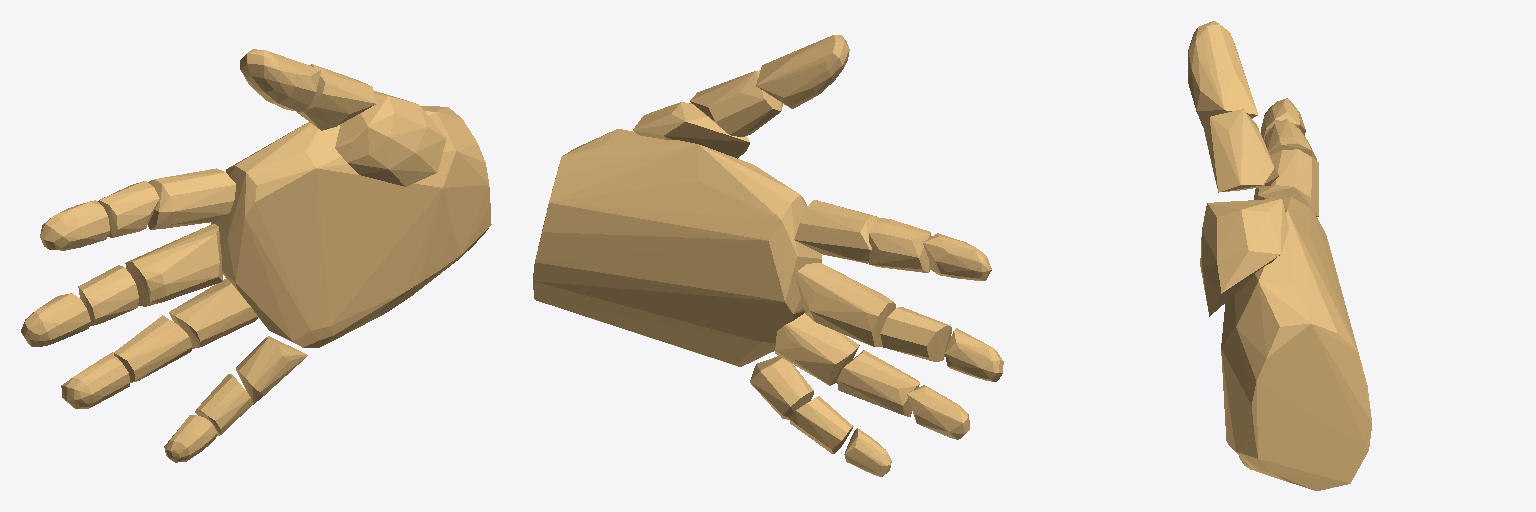
--- Facts derived from the render (not from the file) ---
Views: 3 orthographic renders of the robot side by side, from view 1: azimuth 30°, elevation 25°; view 2: azimuth 150°, elevation 25°; view 3: azimuth 270°, elevation 25°.
Robot: mano — 64 links, 63 joints (48 revolute, 3 prismatic, 12 fixed); root link world; default pose: all joints at 0.
Links seen in each view (by area): view 1: link_palm_rz, link_th_pm_z, link_mf_pm_z, link_ff_pm_z, link_th_dd_z, link_rf_pm_z, link_rf_md_z, link_th_md_z, link_ff_dd_z, link_mf_dd_z, link_lf_pm_z, link_mf_md_z (+4 smaller); view 2: link_palm_rz, link_mf_pm_z, link_th_dd_z, link_rf_pm_z, link_ff_pm_z, link_th_md_z, link_th_pm_z, link_rf_md_z, link_mf_md_z, link_ff_md_z, link_lf_pm_z, link_ff_dd_z (+4 smaller); view 3: link_palm_rz, link_th_pm_z, link_th_dd_z, link_th_md_z, link_ff_pm_z, link_ff_md_z, link_ff_dd_z.
Boxes of the visible links, x1=… form: link_palm_rz: x1=211, y1=106, x2=491, y2=347; link_th_pm_z: x1=335, y1=91, x2=446, y2=186; link_mf_pm_z: x1=125, y1=224, x2=222, y2=306; link_ff_pm_z: x1=148, y1=168, x2=235, y2=229; link_th_dd_z: x1=240, y1=49, x2=320, y2=111; link_rf_pm_z: x1=169, y1=279, x2=257, y2=348; link_rf_md_z: x1=114, y1=315, x2=191, y2=382; link_th_md_z: x1=297, y1=64, x2=376, y2=130; link_ff_dd_z: x1=40, y1=200, x2=109, y2=250; link_mf_dd_z: x1=21, y1=293, x2=90, y2=346; link_lf_pm_z: x1=236, y1=336, x2=307, y2=404; link_mf_md_z: x1=78, y1=265, x2=138, y2=325; link_palm_rz: x1=533, y1=129, x2=821, y2=366; link_mf_pm_z: x1=796, y1=263, x2=895, y2=346; link_th_dd_z: x1=756, y1=35, x2=849, y2=108; link_rf_pm_z: x1=775, y1=313, x2=859, y2=385; link_ff_pm_z: x1=794, y1=200, x2=879, y2=263; link_th_md_z: x1=690, y1=70, x2=782, y2=136; link_th_pm_z: x1=633, y1=102, x2=749, y2=158; link_rf_md_z: x1=837, y1=350, x2=919, y2=416; link_mf_md_z: x1=880, y1=307, x2=951, y2=361; link_ff_md_z: x1=869, y1=218, x2=931, y2=272; link_lf_pm_z: x1=750, y1=356, x2=813, y2=419; link_ff_dd_z: x1=923, y1=233, x2=991, y2=280; link_palm_rz: x1=1221, y1=197, x2=1371, y2=490; link_th_pm_z: x1=1200, y1=199, x2=1288, y2=316; link_th_dd_z: x1=1188, y1=21, x2=1257, y2=125; link_th_md_z: x1=1203, y1=109, x2=1278, y2=192; link_ff_pm_z: x1=1254, y1=149, x2=1318, y2=216; link_ff_md_z: x1=1264, y1=119, x2=1316, y2=160; link_ff_dd_z: x1=1261, y1=98, x2=1305, y2=139.
Size in the robot's own frame: 0.1951 by 0.0594 by 0.1689 metres.
16 mesh visuals loaded from 16 distinct referenced files (16 binary STL).

URDF robot description (mano):
<?xml version="0.0" ?>
<robot name="mano">


  <material name="hand_color">
    <color rgba="0.91796875 0.765 0.5234 1"/>
  </material>
  <link name="world">  </link>

  <joint name="world_to_base" type="fixed">
    <axis xyz="0 0 0"/>
    <origin xyz="0.0 0.0 0.0"/>
    <parent link="world"/>
    <child link="sliderBar"/>
  </joint>

  <link name="sliderBar">
    <inertial>
      <mass value="0"/>
      <inertia ixx="1.0" ixy="0.0" ixz="0.0" iyy="1.0" iyz="0.0" izz="1.0"/>
    </inertial>
  </link>

    <!--
      Palm
    -->
    <!-- Palm -->
    <link name="palm">
		<inertial>
			<origin rpy="1.58112 0.01503 1.64315" xyz="-0.03429 -0.00198 0.00005"/>
			<mass value="0.25042"/>
			<inertia ixx="0.00043" ixy="0" ixz="0" iyy="0.00029" iyz="0" izz="0.00020"/>
		</inertial>
    </link>

    <link name="link_palm_y">
        <inertial>
            <origin rpy="0.00000 -0.00000 0.00000" xyz="0.00000 0.00000 0.00000"/>
            <mass value="0.00000"/>
            <inertia ixx="0.00000" ixy="0" ixz="0" iyy="0.00000" iyz="0" izz="0.00000"/>
        </inertial>
    </link>
    <link name="link_palm_z">
        <inertial>
            <origin rpy="0.00000 -0.00000 0.00000" xyz="0.00000 0.00000 0.00000"/>
            <mass value="0.00000"/>
            <inertia ixx="0.00000" ixy="0" ixz="0" iyy="0.00000" iyz="0" izz="0.00000"/>
        </inertial>
    </link>
    <link name="link_palm_rx">
        <inertial>
            <origin rpy="0.00000 -0.00000 0.00000" xyz="0.00000 0.00000 0.00000"/>
            <mass value="0.00000"/>
            <inertia ixx="0.00000" ixy="0" ixz="0" iyy="0.00000" iyz="0" izz="0.00000"/>
        </inertial>
    </link>
    <link name="link_palm_ry">
        <inertial>
            <origin rpy="0.00000 -0.00000 0.00000" xyz="0.00000 0.00000 0.00000"/>
            <mass value="0.00000"/>
            <inertia ixx="0.00000" ixy="0" ixz="0" iyy="0.00000" iyz="0" izz="0.00000"/>
        </inertial>
    </link>
    <link name="link_palm_rz">
        <inertial>
            <origin rpy="0.00000 -0.00000 0.00000" xyz="0.00000 0.00000 0.00000"/>
            <mass value="0.00000"/>
            <inertia ixx="0.00000" ixy="0" ixz="0" iyy="0.00000" iyz="0" izz="0.00000"/>
        </inertial>
        <visual>
            <origin rpy="0 0 0.0" xyz="0 0 0"/>
            <geometry>
                <mesh filename="meshes/palm_mean.stl" scale="1 1 1"/>
            </geometry>
            <material name="hand_color"/>
        </visual>
        <collision>
            <origin rpy="0 0 0.2" xyz="-0.03 0 0"/>
            <geometry>
                <box size="0.08780 0.027 0.07"/>
            </geometry>
            <material name="">
              <contact name="finger"/>
            </material>
        </collision>
        <collision>
            <origin rpy="-2.61505 0.70030 -1.87000" xyz="-0.01187 -0.00708 0.01218"/>
            <geometry>
                <capsule length="0.03684" radius="0.015"/>
            </geometry>
            <material name="">
              <contact name="finger"/>
            </material>
        </collision>
    </link>
   <joint name="WRJ0x" type="prismatic">
        <parent link="sliderBar"/>
        <child link="palm"/>
        <origin xyz="0.0 0.0 0.0"/>
        <axis xyz="1 0 0"/>
        <limit effort="100.0" lower="-2" upper="2" />
        <dynamics damping="10.0" friction="0.0001"/>
    </joint>
    <joint name="WRJ0y" type="prismatic">
        <parent link="palm"/>
        <child link="link_palm_y"/>
        <origin xyz="0.0 0.0 0.0"/>
        <axis xyz="0 1 0"/>
        <limit effort="100.0" lower="-2" upper="2" />
        <dynamics damping="10.0" friction="0.0001"/>
    </joint>
    <joint name="WRJ0z" type="prismatic">
        <parent link="link_palm_y"/>
        <child link="link_palm_z"/>
        <origin xyz="0.0 0.0 0.0"/>
        <axis xyz="0 0 1"/>
        <limit effort="100.0" lower="-2" upper="2"/>
        <dynamics damping="10.0" friction="0.0001"/>
    </joint>
    <joint name="WRJ0rx" type="revolute">
        <parent link="link_palm_z"/>
        <child link="link_palm_rx"/>
        <origin xyz="0.0 0.0 0.0"/>
        <axis xyz="1 0 0"/>
        <limit effort="1000" lower="-3.14" upper="3.14" />

        <dynamics   damping="1.0" friction="0.0001"/>
    </joint>
    <joint name="WRJ0ry" type="revolute">
        <parent link="link_palm_rx"/>
        <child link="link_palm_ry"/>
        <origin xyz="0.0 0.0 0.0"/>
        <axis xyz="0 1 0"/>
        <limit effort="1000" lower="-3.14" upper="3.14"  />

        <dynamics   damping="1.0" friction="0.0001"/>
    </joint>
    <joint name="WRJ0rz" type="revolute">
        <parent link="link_palm_ry"/>
        <child link="link_palm_rz"/>
        <origin xyz="0.0 0.0 0.0"/>
        <axis xyz="0 0 1"/>
        <limit effort="1000" lower="-3.14" upper="3.14"  />
        <dynamics   damping="1.0" friction="0.0001"/>
    </joint>


     <!-- FF -->
    <link name="fffixed">
        <inertial>
            <origin rpy="0.00000 -0.00000 0.00000" xyz="0.00000 0.00000 0.00000"/>
            <mass value="0.0"/>
            <inertia ixx="0.00000" ixy="0" ixz="0" iyy="0.00000" iyz="0" izz="0.00000"/>
        </inertial>
    </link>
    <!-- Fix Finger joint -->
    <joint name="Palm_FFJ2" type="fixed">
        <parent link="link_palm_rz"/>
        <child link="fffixed"/>
        <origin xyz="0.0 0.0 0.0"/>
    </joint>


    <link name="ffproximal">
		<inertial>
			<origin rpy="-0.62614 -1.47063 -2.57808" xyz="0.06969 0.00857 -0.01920"/>
			<mass value="0.00845"/>
			<inertia ixx="0.00000" ixy="0" ixz="0" iyy="0.00000" iyz="0" izz="0.00000"/>
		</inertial>
    </link>
    <link name="link_ff_pm_y">
        <inertial>
            <origin rpy="0.00000 -0.00000 0.00000" xyz="0.00000 0.00000 0.00000"/>
            <mass value="0.00000"/>
            <inertia ixx="0.00000" ixy="0" ixz="0" iyy="0.00000" iyz="0" izz="0.00000"/>
        </inertial>
    </link>
    <link name="link_ff_pm_z">
        <inertial>
            <origin rpy="0.00000 -0.00000 0.00000" xyz="0.00000 0.00000 0.00000"/>
            <mass value="0.00000"/>
            <inertia ixx="0.00000" ixy="0" ixz="0" iyy="0.00000" iyz="0" izz="0.00000"/>
        </inertial>
        <collision>
          <origin rpy="2.0759187  1.43150624 1.94972864" xyz="-0.01633945  0.00200468  0.00110853"/>
          <geometry>
            <capsule length="0.0329984988704395" radius="0.009"/>
          </geometry>
          <material name="">
            <contact name="finger"/>
          </material>
       </collision>
       <visual>
           <origin rpy="0 0 0.0" xyz="0 0 0"/>
           <geometry>
               <mesh filename="meshes/ffprox_mean.stl" scale="1 1 1"/>
           </geometry>
           <material name="hand_color"/>
       </visual>
    </link>
    <!-- FF2 proximal joint -->
    <joint name="FFJ2" type="revolute">
        <parent link="fffixed"/>
        <child link="ffproximal"/>
        <origin xyz="-0.0880972 -0.00520036 0.020686"/>
        <axis xyz="1 0 0"/>
        <limit effort="1000" lower="-0.25000" upper="0.25000" />

        <dynamics   damping="1.0" friction="0.0001"/>
    </joint>
    <joint name="FFJ2_y" type="revolute">
        <parent link="ffproximal"/>
        <child link="link_ff_pm_y"/>
        <origin xyz="0 0 0"/>
        <axis xyz="0 1 0"/>
        <limit effort="1000" lower="-0.8" upper="0.8" />

        <dynamics   damping="1.0" friction="0.0001"/>
    </joint>
    <joint name="FFJ2_z" type="revolute">
        <parent link="link_ff_pm_y"/>
        <child link="link_ff_pm_z"/>
        <origin xyz="0 0 0"/>
        <axis xyz="0 0 1"/>
        <limit effort="1000" lower="-0.0" upper="1.57" />

        <dynamics   damping="1.0" friction="0.0001"/>
    </joint>

  <link name="ffmiddle_fixed">
        <inertial>
            <origin rpy="0.00000 -0.00000 0.00000" xyz="0.00000 0.00000 0.00000"/>
            <mass value="0.0"/>
            <inertia ixx="0.00000" ixy="0" ixz="0" iyy="0.00000" iyz="0" izz="0.00000"/>
        </inertial>
    </link>
    <link name="ffmiddle">
		<inertial>
			<origin rpy="1.37262 -0.25251 1.73296" xyz="0.10956 0.00102 -0.02288"/>
			<mass value="0.00413"/>
			<inertia ixx="0.00000" ixy="0" ixz="0" iyy="0.00000" iyz="0" izz="0.00000"/>
		</inertial>
    </link>
    <link name="link_ff_md_y">
        <inertial>
            <origin rpy="0.00000 -0.00000 0.00000" xyz="0.00000 0.00000 0.00000"/>
            <mass value="0.00000"/>
            <inertia ixx="0.00000" ixy="0" ixz="0" iyy="0.00000" iyz="0" izz="0.00000"/>
        </inertial>
    </link>
    <link name="link_ff_md_z">
        <inertial>
            <origin rpy="0.00000 -0.00000 0.00000" xyz="0.00000 0.00000 0.00000"/>
            <mass value="0.00000"/>
            <inertia ixx="0.00000" ixy="0" ixz="0" iyy="0.00000" iyz="0" izz="0.00000"/>
        </inertial>
        <collision>
          <origin rpy="-1.48313839 1.51203433 -1.42475203" xyz="-1.10779554e-02 -6.49210764e-04 -5.70546836e-05"/>
          <geometry>
            <capsule length="0.02219421770877059" radius="0.0075"/>
          </geometry>
          <material name="">
            <contact name="finger"/>
          </material>
       </collision>
       <visual>
           <origin rpy="0 0 0.0" xyz="0 0 0"/>
           <geometry>
               <mesh filename="meshes/ffmiddle_mean.stl" scale="1 1 1"/>
           </geometry>
           <material name="hand_color"/>
       </visual>
    </link>
    <!-- FF1 joint -->
    <joint name="FFJ1_f" type="fixed">
        <parent link="link_ff_pm_z"/>
        <child link="ffmiddle_fixed"/>
        <origin xyz="-0.0326789 0.00400935 0.00221706"/>
        <axis xyz="1 0 0"/>
    </joint>
    <joint name="FFJ1" type="revolute">
        <parent link="ffmiddle_fixed"/>
        <child link="ffmiddle"/>
        <origin xyz="0.0 0.0 0.0"/>
        <axis xyz="1 0 0"/>
        <limit effort="1000" lower="-0.25000" upper="0.25000" />

        <dynamics   damping="1.0" friction="0.0001"/>
    </joint>
    <joint name="FFJ1_y" type="revolute">
        <parent link="ffmiddle"/>
        <child link="link_ff_md_y"/>
        <origin xyz="0.0 0.0 0.0"/>
        <axis xyz="0 1 0"/>
        <limit effort="1000" lower="-0.25000" upper="0.25000" />

        <dynamics   damping="1.0" friction="0.0001"/>
    </joint>
    <joint name="FFJ1_z" type="revolute">
        <parent link="link_ff_md_y"/>
        <child link="link_ff_md_z"/>
        <origin xyz="0.0 0.0 0.0"/>
        <axis xyz="0 0 1"/>
        <limit effort="1000" lower="-0.5000" upper="1.57" />

        <dynamics   damping="1.0" friction="0.0001"/>
    </joint>

    <link name="ffdistal">
		<inertial>
			<origin rpy="1.46564 0.28965 1.52696" xyz="0.13180 0.00199 -0.02293"/>
			<mass value="0.00293"/>
			<inertia ixx="0.00000" ixy="0" ixz="0" iyy="0.00000" iyz="0" izz="0.00000"/>
		</inertial>
    </link>
    <link name="link_ff_dd_y">
        <inertial>
            <origin rpy="0.00000 -0.00000 0.00000" xyz="0.00000 0.00000 0.00000"/>
            <mass value="0.00000"/>
            <inertia ixx="0.00000" ixy="0" ixz="0" iyy="0.00000" iyz="0" izz="0.00000"/>
        </inertial>
    </link>
    <link name="link_ff_dd_z">
        <inertial>
            <origin rpy="0.00000 -0.00000 0.00000" xyz="0.00000 0.00000 0.00000"/>
            <mass value="0.00000"/>
            <inertia ixx="0.00000" ixy="0" ixz="0" iyy="0.00000" iyz="0" izz="0.00000"/>
        </inertial>
        <collision>
          <origin rpy="2.96610898 1.39582282 2.93259132 " xyz="-0.01163138  0.00035898  0.00202463"/>
          <geometry>
            <capsule length="0.015" radius="0.0075"/>
          </geometry>
          <material name="">
            <contact name="finger"/>
          </material>
       </collision>
       <visual>
           <origin rpy="0 0 0.0" xyz="0 0 0"/>
           <geometry>
               <mesh filename="meshes/ffdist_mean.stl" scale="1 1 1"/>
           </geometry>
           <material name="hand_color"/>
       </visual>
    </link>
    <!-- FF1 joint -->
    <joint name="FFJ0" type="revolute">
        <parent link="link_ff_md_z"/>
        <child link="ffdistal"/>
        <origin xyz="-0.0221559 -0.00129842 -0.000114109"/>
        <axis xyz="1 0 0"/>
        <limit effort="1000" lower="-0.25000" upper="0.25000" />

        <dynamics   damping="1.0" friction="0.0001"/>
    </joint>
    <joint name="FFJ0_y" type="revolute">
        <parent link="ffdistal"/>
        <child link="link_ff_dd_y"/>
        <origin xyz="0.0 0.0 0.0"/>
        <axis xyz="0 1 0"/>
        <limit effort="1000" lower="-0.25000" upper="0.25000" />

        <dynamics   damping="1.0" friction="0.0001"/>
    </joint>
    <joint name="FFJ0_z" type="revolute">
        <parent link="link_ff_dd_y"/>
        <child link="link_ff_dd_z"/>
        <origin xyz="0.0 0.0 0.0"/>
        <axis xyz="0 0 1"/>
        <limit effort="1000" lower="-0.000" upper="1.57" />

        <dynamics   damping="1.0" friction="0.0001"/>
    </joint>

    <link name="link_fftip">
                <inertial>
                    <origin rpy="0.00000 -0.00000 0.00000" xyz="0.00000 0.00000 0.00000"/>
                    <mass value="0.00000"/>
                    <inertia ixx="0.00000" ixy="0" ixz="0" iyy="0.00000" iyz="0" izz="0.00000"/>
                </inertial>
    </link>
        <!-- Fix Finger joint -->
    <joint name="FFTip" type="fixed">
            <parent link="link_ff_dd_z"/>
            <child link="link_fftip"/>
            <origin xyz="-0.02326277  0.00071796  0.00404926"/>
    </joint>

    <!-- MF -->
    <link name="mffixed">
        <inertial>
            <origin rpy="0.00000 -0.00000 0.00000" xyz="0.00000 0.00000 0.00000"/>
            <mass value="0.0"/>
            <inertia ixx="0.00000" ixy="0" ixz="0" iyy="0.00000" iyz="0" izz="0.00000"/>
        </inertial>
    </link>
    <!-- Fix Finger joint -->
    <joint name="Palm_MFJ2" type="fixed">
        <parent link="link_palm_rz"/>
        <child link="mffixed"/>
        <origin xyz="0.0 0.0 0.0"/>
    </joint>


    <link name="mfproximal">
		<inertial>
			<origin rpy="1.32892 0.20760 1.52264" xyz="0.08062 0.00385 0.00038"/>
			<mass value="0.00996"/>
			<inertia ixx="0.00000" ixy="0" ixz="0" iyy="0.00000" iyz="0" izz="0.00000"/>
		</inertial>
    </link>
    <link name="link_mf_pm_y">
        <inertial>
            <origin rpy="0.00000 -0.00000 0.00000" xyz="0.00000 0.00000 0.00000"/>
            <mass value="0.00000"/>
            <inertia ixx="0.00000" ixy="0" ixz="0" iyy="0.00000" iyz="0" izz="0.00000"/>
        </inertial>
    </link>
    <link name="link_mf_pm_z">
        <inertial>
            <origin rpy="0.00000 -0.00000 0.00000" xyz="0.00000 0.00000 0.00000"/>
            <mass value="0.00000"/>
            <inertia ixx="0.00000" ixy="0" ixz="0" iyy="0.00000" iyz="0" izz="0.00000"/>
        </inertial>
        <collision>
          <origin rpy="0.32118629 1.38392244 0.26686409" xyz="-0.01559134  0.00093066 -0.00279725"/>
          <geometry>
            <capsule length="0.031735191602453826" radius="0.009"/>
          </geometry>
          <material name="">
            <contact name="finger"/>
          </material>
       </collision>
       <visual>
           <origin rpy="0 0 0.0" xyz="0 0 0"/>
           <geometry>
               <mesh filename="meshes/mfprox_mean.stl" scale="1 1 1"/>
           </geometry>
           <material name="hand_color"/>
       </visual>

    </link>
    <!-- MF2 proximal joint -->
    <joint name="MFJ2" type="revolute">
        <parent link="mffixed"/>
        <child link="mfproximal"/>
        <origin xyz="-0.0946604 -0.00147896 -0.00335754"/>
        <axis xyz="1 0 0"/>
        <limit effort="1000" lower="-0.25000" upper="0.25000" />

        <dynamics   damping="1.0" friction="0.0001"/>
    </joint>
    <joint name="MFJ2_y" type="revolute">
        <parent link="mfproximal"/>
        <child link="link_mf_pm_y"/>
        <origin xyz="0.0 0.0 0.0"/>
        <axis xyz="0 1 0"/>
        <limit effort="1000" lower="-0.8" upper="0.8" />

        <dynamics   damping="1.0" friction="0.0001"/>
    </joint>
    <joint name="MFJ2_z" type="revolute">
        <parent link="link_mf_pm_y"/>
        <child link="link_mf_pm_z"/>
        <origin xyz="0.0 0.0 0.0"/>
        <axis xyz="0 0 1"/>
        <limit effort="1000" lower="-0.0" upper="1.57" />

        <dynamics   damping="1.0" friction="0.0001"/>
    </joint>

    <link name="mfmiddle">
		<inertial>
			<origin rpy="1.36785 0.19063 1.79335" xyz="0.11276 -0.00059 0.00674"/>
			<mass value="0.00400"/>
			<inertia ixx="0.00000" ixy="0" ixz="0" iyy="0.00000" iyz="0" izz="0.00000"/>
		</inertial>
    </link>
    <link name="link_mf_md_y">
        <inertial>
            <origin rpy="0.00000 -0.00000 0.00000" xyz="0.00000 0.00000 0.00000"/>
            <mass value="0.00000"/>
            <inertia ixx="0.00000" ixy="0" ixz="0" iyy="0.00000" iyz="0" izz="0.00000"/>
        </inertial>
    </link>
    <link name="link_mf_md_z">
        <inertial>
            <origin rpy="0.00000 -0.00000 0.00000" xyz="0.00000 0.00000 0.00000"/>
            <mass value="0.00000"/>
            <inertia ixx="0.00000" ixy="0" ixz="0" iyy="0.00000" iyz="0" izz="0.00000"/>
        </inertial>
    <collision>
      <origin rpy="-0.30736925 1.39204219 -0.25742004" xyz="-0.01145232 -0.00062605 -0.00197226"/>
      <geometry>
        <capsule length="0.023275522107771795" radius="0.0075"/>
      </geometry>
      <material name="">
        <contact name="finger"/>
      </material>
   </collision>
   <visual>
       <origin rpy="0 0 0.0" xyz="0 0 0"/>
       <geometry>
           <mesh filename="meshes/mfmiddle_mean.stl" scale="1 1 1"/>
       </geometry>
       <material name="hand_color"/>
   </visual>
    </link>
    <!-- MF1 joint -->
    <joint name="MFJ1" type="revolute">
        <parent link="link_mf_pm_z"/>
        <child link="mfmiddle"/>
        <origin xyz="-0.0311827 0.00186133 -0.00559451"/>
        <axis xyz="1 0 0"/>
        <limit effort="1000" lower="-0.25000" upper="0.25000" />

        <dynamics   damping="1.0" friction="0.0001"/>
    </joint>
    <joint name="MFJ1_y" type="revolute">
        <parent link="mfmiddle"/>
        <child link="link_mf_md_y"/>
        <origin xyz="0.0 0.0 0.0"/>
        <axis xyz="0 1 0"/>
        <limit effort="1000" lower="-0.25000" upper="0.25000" />

        <dynamics   damping="1.0" friction="0.0001"/>
    </joint>
    <joint name="MFJ1_z" type="revolute">
        <parent link="link_mf_md_y"/>
        <child link="link_mf_md_z"/>
        <origin xyz="0.0 0.0 0.0"/>
        <axis xyz="0 0 1"/>
        <limit effort="1000" lower="-0.000" upper="1.57" />

        <dynamics   damping="1.0" friction="0.0001"/>
    </joint>

    <link name="mfdistal">
		<inertial>
			<origin rpy="1.31977 0.24217 1.38225" xyz="0.13534 0.00074 0.01081"/>
			<mass value="0.00289"/>
			<inertia ixx="0.00000" ixy="0" ixz="0" iyy="0.00000" iyz="0" izz="0.00000"/>
		</inertial>
    </link>
    <link name="link_mf_dd_y">
        <inertial>
            <origin rpy="0.00000 -0.00000 0.00000" xyz="0.00000 0.00000 0.00000"/>
            <mass value="0.00000"/>
            <inertia ixx="0.00000" ixy="0" ixz="0" iyy="0.00000" iyz="0" izz="0.00000"/>
        </inertial>
    </link>
    <link name="link_mf_dd_z">
        <inertial>
            <origin rpy="0.00000 -0.00000 0.00000" xyz="0.00000 0.00000 0.00000"/>
            <mass value="0.00000"/>
            <inertia ixx="0.00000" ixy="0" ixz="0" iyy="0.00000" iyz="0" izz="0.00000"/>
        </inertial>
        <collision>
          <origin rpy="-0.21855015 1.36348088  -0.17760409" xyz="-0.01551503 -0.00070755 -0.00318577"/>
          <geometry>
            <capsule length="0.01" radius="0.0075"/>
          </geometry>
          <material name="">
            <contact name="finger"/>
          </material>
       </collision>
       <visual>
           <origin rpy="0 0 0.0" xyz="0 0 0"/>
           <geometry>
               <mesh filename="meshes/mfdist_mean.stl" scale="1 1 1"/>
           </geometry>
           <material name="hand_color"/>
       </visual>
    </link>
    <!-- MF0 joint -->
    <joint name="MFJ0" type="revolute">
        <parent link="link_mf_md_z"/>
        <child link="mfdistal"/>
        <origin xyz="-0.0229046 -0.0012521 -0.00394452"/>
        <axis xyz="1 0 0"/>
        <limit effort="1000" lower="-0.25000" upper="0.25000" />

        <dynamics   damping="1.0" friction="0.0001"/>
    </joint>
    <joint name="MFJ0_y" type="revolute">
        <parent link="mfdistal"/>
        <child link="link_mf_dd_y"/>
        <origin xyz="0.0 0.0 0.0"/>
        <axis xyz="0 1 0"/>
        <limit effort="1000" lower="-0.25000" upper="0.25000" />

        <dynamics   damping="1.0" friction="0.0001"/>
    </joint>
    <joint name="MFJ0_z" type="revolute">
        <parent link="link_mf_dd_y"/>
        <child link="link_mf_dd_z"/>
        <origin xyz="0.0 0.0 0.0"/>
        <axis xyz="0 0 1"/>
        <limit effort="1000" lower="-0.000" upper="1.57" />

        <dynamics   damping="1.0" friction="0.0001"/>
    </joint>

    <link name="link_mftip">
            <inertial>
                <origin rpy="0.00000 -0.00000 0.00000" xyz="0.00000 0.00000 0.00000"/>
                <mass value="0.00000"/>
                <inertia ixx="0.00000" ixy="0" ixz="0" iyy="0.00000" iyz="0" izz="0.00000"/>
            </inertial>
    </link>
        <!-- Fix Finger joint -->
    <joint name="MFTip" type="fixed">
            <parent link="link_mf_dd_z"/>
            <child link="link_mftip"/>
            <origin xyz="-0.03103006 -0.0014151  -0.00637153"/>

    </joint>

    <!-- RF -->
    <link name="rffixed">
        <inertial>
            <origin rpy="0.00000 -0.00000 0.00000" xyz="0.00000 0.00000 0.00000"/>
            <mass value="0.0"/>
            <inertia ixx="0.00000" ixy="0" ixz="0" iyy="0.00000" iyz="0" izz="0.00000"/>
        </inertial>
    </link>

    <!-- Fix Finger joint -->
    <joint name="Palm_RFJ2" type="fixed">
        <parent link="link_palm_rz"/>
        <child link="rffixed"/>
        <origin xyz="0.0 0.0 0.0"/>
    </joint>


    <link name="rfproximal">
		<inertial>
			<origin rpy="-1.12499 -1.03767 -1.92594" xyz="0.06944 0.00644 0.02597"/>
			<mass value="0.00725"/>
			<inertia ixx="0.00000" ixy="0" ixz="0" iyy="0.00000" iyz="0" izz="0.00000"/>
		</inertial>
    </link>
    <link name="link_rf_pm_y">
        <inertial>
            <origin rpy="0.00000 -0.00000 0.00000" xyz="0.00000 0.00000 0.00000"/>
            <mass value="0.00000"/>
            <inertia ixx="0.00000" ixy="0" ixz="0" iyy="0.00000" iyz="0" izz="0.00000"/>
        </inertial>
    </link>
    <link name="link_rf_pm_z">
        <inertial>
            <origin rpy="0.00000 -0.00000 0.00000" xyz="0.00000 0.00000 0.00000"/>
            <mass value="0.00000"/>
            <inertia ixx="0.00000" ixy="0" ixz="0" iyy="0.00000" iyz="0" izz="0.00000"/>
        </inertial>
        <collision>
          <origin rpy=" 0.38516311 1.37888284 0.31878467" xyz="-0.01415714  0.0010335  -0.00254927"/>
          <geometry>
            <capsule length="0.028843811919740826" radius="0.009"/>
          </geometry>
          <material name="">
            <contact name="finger"/>
          </material>
       </collision>
       <visual>
           <origin rpy="0 0 0.0" xyz="0 0 0"/>
           <geometry>
               <mesh filename="meshes/rfprox_mean.stl" scale="1 1 1"/>
           </geometry>
           <material name="hand_color"/>
       </visual>
    </link>
    <!-- RF2 proximal joint -->
    <joint name="RFJ2" type="revolute">
        <parent link="rffixed"/>
        <child link="rfproximal"/>
        <origin xyz="-0.0817355 -0.00395742 -0.0266732"/>
        <axis xyz="1 0 0"/>
        <limit effort="1000" lower="-0.25000" upper="0.25000" />

        <dynamics   damping="1.0" friction="0.0001"/>
    </joint>
    <joint name="RFJ2_y" type="revolute">
        <parent link="rfproximal"/>
        <child link="link_rf_pm_y"/>
        <origin xyz="0.0 0.0 0.0"/>
        <axis xyz="0 1 0"/>
        <limit effort="1000" lower="-0.8" upper="0.8" />

        <dynamics   damping="1.0" friction="0.0001"/>
    </joint>
    <joint name="RFJ2_z" type="revolute">
        <parent link="link_rf_pm_y"/>
        <child link="link_rf_pm_z"/>
        <origin xyz="0.0 0.0 0.0"/>
        <axis xyz="0 0 1"/>
        <limit effort="1000" lower="-0.0" upper="1.57" />

        <dynamics   damping="1.0" friction="0.0001"/>
    </joint>

    <link name="rfmiddle">
		<inertial>
			<origin rpy="1.27220 0.24142 1.59300" xyz="0.09885 0.00150 0.02757"/>
			<mass value="0.00487"/>
			<inertia ixx="0.00000" ixy="0" ixz="0" iyy="0.00000" iyz="0" izz="0.00000"/>
		</inertial>
    </link>
    <link name="link_rf_md_y">
        <inertial>
            <origin rpy="0.00000 -0.00000 0.00000" xyz="0.00000 0.00000 0.00000"/>
            <mass value="0.00000"/>
            <inertia ixx="0.00000" ixy="0" ixz="0" iyy="0.00000" iyz="0" izz="0.00000"/>
        </inertial>
    </link>
    <link name="link_rf_md_z">
        <inertial>
            <origin rpy="0.00000 -0.00000 0.00000" xyz="0.00000 0.00000 0.00000"/>
            <mass value="0.00000"/>
            <inertia ixx="0.00000" ixy="0" ixz="0" iyy="0.00000" iyz="0" izz="0.00000"/>
        </inertial>
        <collision>
          <origin rpy="-0.21763357 1.24988512 -0.15729772" xyz="-0.01176025 -0.00084406 -0.00381691"/>
          <geometry>
            <capsule length="0.024785865310763495" radius="0.0075"/>
          </geometry>
          <material name="">
            <contact name="finger"/>
          </material>
       </collision>
       <visual>
           <origin rpy="0 0 0.0" xyz="0 0 0"/>
           <geometry>
               <mesh filename="meshes/rfmiddle_mean.stl" scale="1 1 1"/>
           </geometry>
           <material name="hand_color"/>
       </visual>
    </link>
    <!-- RF1 joint -->
    <joint name="RFJ1" type="revolute">
        <parent link="link_rf_pm_z"/>
        <child link="rfmiddle"/>
        <origin xyz="-0.0283143 0.00206701 -0.00509854"/>
        <axis xyz="1 0 0"/>
        <limit effort="1000" lower="-0.25000" upper="0.25000" />

        <dynamics   damping="1.0" friction="0.0001"/>
    </joint>
    <joint name="RFJ1_y" type="revolute">
        <parent link="rfmiddle"/>
        <child link="link_rf_md_y"/>
        <origin xyz="0.0 0.0 0.0"/>
        <axis xyz="0 1 0"/>
        <limit effort="1000" lower="-0.25000" upper="0.25000" />

        <dynamics   damping="1.0" friction="0.0001"/>
    </joint>
    <joint name="RFJ1_z" type="revolute">
        <parent link="link_rf_md_y"/>
        <child link="link_rf_md_z"/>
        <origin xyz="0.0 0.0 0.0"/>
        <axis xyz="0 0 1"/>
        <limit effort="1000" lower="-0.000" upper="1.57" />

        <dynamics   damping="1.0" friction="0.0001"/>
    </joint>

    <link name="rfdistal">
		<inertial>
			<origin rpy="1.25957 0.23826 1.45394" xyz="0.12158 0.00349 0.03689"/>
			<mass value="0.00272"/>
			<inertia ixx="0.00000" ixy="0" ixz="0" iyy="0.00000" iyz="0" izz="0.00000"/>
		</inertial>
    </link>
    <link name="link_rf_dd_y">
        <inertial>
            <origin rpy="0.00000 -0.00000 0.00000" xyz="0.00000 0.00000 0.00000"/>
            <mass value="0.00000"/>
            <inertia ixx="0.00000" ixy="0" ixz="0" iyy="0.00000" iyz="0" izz="0.00000"/>
        </inertial>
    </link>
    <link name="link_rf_dd_z">
        <inertial>
            <origin rpy="0.00000 -0.00000 0.00000" xyz="0.00000 0.00000 0.00000"/>
            <mass value="0.00000"/>
            <inertia ixx="0.00000" ixy="0" ixz="0" iyy="0.00000" iyz="0" izz="0.00000"/>
        </inertial>
        <collision>
          <origin rpy="0.43325752 1.27456581 0.32302802" xyz="-0.01460212  0.00187106 -0.00404494"/>
          <geometry>
            <capsule length="0.01" radius="0.0075"/>
          </geometry>
          <material name="">
            <contact name="finger"/>
          </material>
       </collision>
       <visual>
         <origin rpy="0 0 0.0" xyz="0 0 0"/>
         <geometry>
             <mesh filename="meshes/rfdist_mean.stl" scale="1 1 1"/>
         </geometry>
         <material name="hand_color"/>
       </visual>
    </link>
    <!-- RF0 joint -->
    <joint name="RFJ0" type="revolute">
        <parent link="link_rf_md_z"/>
        <child link="rfdistal"/>
        <origin xyz="-0.0235205 -0.00168811 -0.00763382"/>
        <axis xyz="1 0 0"/>
        <limit effort="1000" lower="-0.25000" upper="0.25000" />

        <dynamics   damping="1.0" friction="0.0001"/>
    </joint>
    <joint name="RFJ0_y" type="revolute">
        <parent link="rfdistal"/>
        <child link="link_rf_dd_y"/>
        <origin xyz="0.0 0.0 0.0"/>
        <axis xyz="0 1 0"/>
        <limit effort="1000" lower="-0.25000" upper="0.25000" />

        <dynamics   damping="1.0" friction="0.0001"/>
    </joint>
    <joint name="RFJ0_z" type="revolute">
        <parent link="link_rf_dd_y"/>
        <child link="link_rf_dd_z"/>
        <origin xyz="0.0 0.0 0.0"/>
        <axis xyz="0 0 1"/>
        <limit effort="1000" lower="-0.000" upper="1.57" />

        <dynamics   damping="1.0" friction="0.0001"/>
    </joint>

    <link name="link_rftip">
            <inertial>
                <origin rpy="0.00000 -0.00000 0.00000" xyz="0.00000 0.00000 0.00000"/>
                <mass value="0.00000"/>
                <inertia ixx="0.00000" ixy="0" ixz="0" iyy="0.00000" iyz="0" izz="0.00000"/>
            </inertial>
    </link>
        <!-- Fix Finger joint -->
    <joint name="RFTip" type="fixed">
            <parent link="link_rf_dd_z"/>
            <child link="link_rftip"/>
            <origin xyz="-0.02920424  0.00374213 -0.00808987"/>
    </joint>

     <!-- LF -->
    <link name="lffixed">
        <inertial>
            <origin rpy="0.00000 -0.00000 0.00000" xyz="0.00000 0.00000 0.00000"/>
            <mass value="0.0"/>
            <inertia ixx="0.00000" ixy="0" ixz="0" iyy="0.00000" iyz="0" izz="0.00000"/>
        </inertial>
    </link>
    <!-- Fix Finger joint -->
    <joint name="Palm_LFJ2" type="fixed">
        <parent link="link_palm_rz"/>
        <child link="lffixed"/>
        <origin xyz="0.0 0.0 0.0"/>
    </joint>


    <link name="lfproximal">
		<inertial>
			<origin rpy="0.98931 0.08796 1.53876" xyz="0.06149 0.01115 0.03613"/>
			<mass value="0.00416"/>
			<inertia ixx="0.00000" ixy="0" ixz="0" iyy="0.00000" iyz="0" izz="0.00000"/>
		</inertial>
    </link>
    <link name="link_lf_pm_y">
        <inertial>
            <origin rpy="0.00000 -0.00000 0.00000" xyz="0.00000 0.00000 0.00000"/>
            <mass value="0.00000"/>
            <inertia ixx="0.00000" ixy="0" ixz="0" iyy="0.00000" iyz="0" izz="0.00000"/>
        </inertial>
    </link>
    <link name="link_lf_pm_z">
        <inertial>
            <origin rpy="0.00000 -0.00000 0.00000" xyz="0.00000 0.00000 0.00000"/>
            <mass value="0.00000"/>
            <inertia ixx="0.00000" ixy="0" ixz="0" iyy="0.00000" iyz="0" izz="0.00000"/>
        </inertial>
        <collision>
          <origin rpy="0.00494643 0.93721839 0.00250398" xyz="-8.50720331e-03  3.09124589e-05 -6.24939241e-03"/>
          <geometry>
            <capsule length="0.0211119273571839" radius="0.009"/>
          </geometry>
          <material name="">
            <contact name="finger"/>
          </material>
       </collision>
       <visual>
           <origin rpy="0 0 0.0" xyz="0 0 0"/>
           <geometry>
               <mesh filename="meshes/lfprox_mean.stl" scale="1 1 1"/>
           </geometry>
           <material name="hand_color"/>
       </visual>
    </link>
    <!-- LF2 proximal joint -->
    <joint name="LFJ2" type="revolute">
        <parent link="lffixed"/>
        <child link="lfproximal"/>
        <origin xyz="-0.0687869 -0.00994033 -0.0432093"/>
        <axis xyz="1 0 0"/>
        <limit effort="1000" lower="-0.25000" upper="0.25000" />

        <dynamics   damping="1.0" friction="0.0001"/>
    </joint>
    <joint name="LFJ2_y" type="revolute">
        <parent link="lfproximal"/>
        <child link="link_lf_pm_y"/>
        <origin xyz="0.0 0.0 0.0"/>
        <axis xyz="0 1 0"/>
        <limit effort="1000" lower="-0.8" upper="0.8" />

        <dynamics   damping="1.0" friction="0.0001"/>
    </joint>
    <joint name="LFJ2_z" type="revolute">
        <parent link="link_lf_pm_y"/>
        <child link="link_lf_pm_z"/>
        <origin xyz="0.0 0.0 0.0"/>
        <axis xyz="0 0 1"/>
        <limit effort="1000"  lower="-0.0" upper="1.57" />

        <dynamics   damping="1.0" friction="0.0001"/>
    </joint>

    <link name="lfmiddle">
		<inertial>
			<origin rpy="0.93554 0.47504 1.36883" xyz="0.07794 0.01096 0.04952"/>
			<mass value="0.00269"/>
			<inertia ixx="0.00000" ixy="0" ixz="0" iyy="0.00000" iyz="0" izz="0.00000"/>
		</inertial>
    </link>
    <link name="link_lf_md_y">
        <inertial>
            <origin rpy="0.00000 -0.00000 0.00000" xyz="0.00000 0.00000 0.00000"/>
            <mass value="0.00000"/>
            <inertia ixx="0.00000" ixy="0" ixz="0" iyy="0.00000" iyz="0" izz="0.00000"/>
        </inertial>
    </link>
    <link name="link_lf_md_z">
        <inertial>
            <origin rpy="0.00000 -0.00000 0.00000" xyz="0.00000 0.00000 0.00000"/>
            <mass value="0.00000"/>
            <inertia ixx="0.00000" ixy="0" ixz="0" iyy="0.00000" iyz="0" izz="0.00000"/>
        </inertial>
    <collision>
      <origin rpy="-0.06679566 0.99258405 -0.0361792" xyz="-0.00793345 -0.00034558 -0.00516596"/>
      <geometry>
        <capsule length="0.018946892889554656" radius="0.0075"/>
      </geometry>
      <material name="">
        <contact name="finger"/>
      </material>
   </collision>
   <visual>
       <origin rpy="0 0 0.0" xyz="0 0 0"/>
       <geometry>
           <mesh filename="meshes/lfmiddle_mean.stl" scale="1 1 1"/>
       </geometry>
       <material name="hand_color"/>
   </visual>
    </link>
    <!-- LF1 joint -->
    <joint name="LFJ1" type="revolute">
        <parent link="link_lf_pm_z"/>
        <child link="lfmiddle"/>
        <origin xyz="-0.0170144 6.18249e-05 -0.0124988"/>
        <axis xyz="1 0 0"/>
        <limit effort="1000" lower="-0.25000" upper="0.25000" />

        <dynamics   damping="1.0" friction="0.0001"/>
    </joint>
    <joint name="LFJ1_y" type="revolute">
        <parent link="lfmiddle"/>
        <child link="link_lf_md_y"/>
        <origin xyz="0.0 0.0 0.0"/>
        <axis xyz="0 1 0"/>
        <limit effort="1000" lower="-0.25000" upper="0.25000" />

        <dynamics   damping="1.0" friction="0.0001"/>
    </joint>
    <joint name="LFJ1_z" type="revolute">
        <parent link="link_lf_md_y"/>
        <child link="link_lf_md_z"/>
        <origin xyz="0.0 0.0 0.0"/>
        <axis xyz="0 0 1"/>
        <limit effort="1000" lower="-0.000" upper="1.57" />

        <dynamics   damping="1.0" friction="0.0001"/>
    </joint>

    <link name="lfdistal">
		<inertial>
			<origin rpy="1.07016 0.12658 1.51486" xyz="0.09286 0.00961 0.06201"/>
			<mass value="0.00150"/>
			<inertia ixx="0.00000" ixy="0" ixz="0" iyy="0.00000" iyz="0" izz="0.00000"/>
		</inertial>
    </link>
    <link name="link_lf_dd_y">
        <inertial>
            <origin rpy="0.00000 -0.00000 0.00000" xyz="0.00000 0.00000 0.00000"/>
            <mass value="0.00000"/>
            <inertia ixx="0.00000" ixy="0" ixz="0" iyy="0.00000" iyz="0" izz="0.00000"/>
        </inertial>
    </link>
    <link name="link_lf_dd_z">
        <inertial>
            <origin rpy="0.00000 -0.00000 0.00000" xyz="0.00000 0.00000 0.00000"/>
            <mass value="0.00000"/>
            <inertia ixx="0.00000" ixy="0" ixz="0" iyy="0.00000" iyz="0" izz="0.00000"/>
        </inertial>
        <collision>
          <origin rpy="0.22194785 1.02909336 0.12582808" xyz="-0.00977975  0.00129545 -0.00574058"/>
          <geometry>
            <capsule length="0.007" radius="0.0065"/>
          </geometry>
          <material name="">
            <contact name="finger"/>
          </material>
       </collision>
       <visual>
           <origin rpy="0 0 0.0" xyz="0 0 0"/>
           <geometry>
               <mesh filename="meshes/lfdist_mean.stl" scale="1 1 1"/>
           </geometry>
           <material name="hand_color"/>
       </visual>
    </link>
    <!-- LF0 joint -->
    <joint name="LFJ0" type="revolute">
        <parent link="link_lf_md_z"/>
        <child link="lfdistal"/>
        <origin xyz="-0.0158669 -0.000691155 -0.0103319"/>
        <axis xyz="1 0 0"/>
        <limit effort="1000" lower="-0.25000" upper="0.25000" />

        <dynamics   damping="1.0" friction="0.0001"/>
    </joint>
    <joint name="LFJ0_y" type="revolute">
        <parent link="lfdistal"/>
        <child link="link_lf_dd_y"/>
        <origin xyz="0.0 0.0 0.0"/>
        <axis xyz="0 1 0"/>
        <limit effort="1000" lower="-0.25000" upper="0.25000" />

        <dynamics   damping="1.0" friction="0.0001"/>
    </joint>
    <joint name="LFJ0_z" type="revolute">
        <parent link="link_lf_dd_y"/>
        <child link="link_lf_dd_z"/>
        <origin xyz="0.0 0.0 0.0"/>
        <axis xyz="0 0 1"/>
        <limit effort="1000" lower="-0.000" upper="1.57" />

        <dynamics   damping="1.0" friction="0.0001"/>
    </joint>
    <link name="link_lftip">
        <inertial>
            <origin rpy="0.00000 -0.00000 0.00000" xyz="0.00000 0.00000 0.00000"/>
            <mass value="0.00000"/>
            <inertia ixx="0.00000" ixy="0" ixz="0" iyy="0.00000" iyz="0" izz="0.00000"/>
        </inertial>
    </link>
    <!-- Fix Finger joint -->
    <joint name="LFTip" type="fixed">
        <parent link="link_lf_dd_z"/>
        <child link="link_lftip"/>
        <origin xyz="-0.0195595   0.0025909  -0.01148116"/>
    </joint>


    <!-- TH -->
    <link name="thfixed">
        <inertial>
            <origin rpy="0.00000 -0.00000 0.00000" xyz="0.00000 0.00000 0.00000"/>
            <mass value="0.0"/>
            <inertia ixx="0.00000" ixy="0" ixz="0" iyy="0.00000" iyz="0" izz="0.00000"/>
        </inertial>
    </link>
    <!-- Fix Finger joint -->
    <joint name="Palm_THJ2" type="fixed">
        <parent link="link_palm_rz"/>
        <child link="thfixed"/>
        <origin xyz="0.0 0.0 0.0"/>
    </joint>


    <link name="thproximal">
		<inertial>
			<origin rpy="-1.80697 -0.79472 -1.24970" xyz="0.01872 0.01295 -0.01284"/>
			<mass value="0.01392"/>
			<inertia ixx="0.00000" ixy="0" ixz="0" iyy="0.00000" iyz="0" izz="0.00000"/>
		</inertial>
    </link>
    <link name="link_th_pm_y">
        <inertial>
            <origin rpy="0.00000 -0.00000 0.00000" xyz="0.00000 0.00000 0.00000"/>
            <mass value="0.00000"/>
            <inertia ixx="0.00000" ixy="0" ixz="0" iyy="0.00000" iyz="0" izz="0.00000"/>
        </inertial>
    </link>
    <link name="link_th_pm_z">
        <inertial>
            <origin rpy="0.00000 -0.00000 0.00000" xyz="0.00000 0.00000 0.00000"/>
            <mass value="0.00000"/>
            <inertia ixx="0.00000" ixy="0" ixz="0" iyy="0.00000" iyz="0" izz="0.00000"/>
        </inertial>
        <collision>
          <origin rpy="3.10400265 0.69148607 3.03731965" xyz="-0.00981662  0.00044564  0.01184977"/>
          <geometry>
            <capsule length="0.030788427516318044" radius="0.01"/>
          </geometry>
       </collision>
       <material name="">
         <contact name="finger"/>
       </material>
       <visual>
           <origin rpy="0 0 0.0" xyz="0 0 0"/>
           <geometry>
               <mesh filename="meshes/thprox_mean.stl" scale="1 1 1"/>
           </geometry>
           <material name="hand_color"/>
       </visual>
    </link>
    <!-- TH2 proximal joint -->
    <joint name="THJ2" type="revolute">
        <parent link="thfixed"/>
        <child link="thproximal"/>
        <origin xyz="-0.0240897 -0.0155223 0.0258128"/>
        <axis xyz="1 0 0"/>
        <limit effort="1000" lower="0" upper="1.57" />
        <dynamics   damping="1.0" friction="0.0001"/>
    </joint>
    <joint name="THJ2_y" type="revolute">
        <parent link="thproximal"/>
        <child link="link_th_pm_y"/>
        <origin xyz="0.0 0.0 0.0"/>
        <axis xyz="0 1 0"/>
        <limit effort="1000" lower="-0.8" upper="0.8" />
        <dynamics   damping="1.0" friction="0.0001"/>
    </joint>
    <joint name="THJ2_z" type="revolute">
        <parent link="link_th_pm_y"/>
        <child link="link_th_pm_z"/>
        <origin xyz="0.0 0.0 0.0"/>
        <axis xyz="0 0 1"/>
        <limit effort="1000" lower="-0.25" upper="0.25" />
        <dynamics   damping="1.0" friction="0.0001"/>
    </joint>

    <link name="thmiddle">
		<inertial>
			<origin rpy="2.09811 -1.08828 1.27625" xyz="0.03297 0.01229 -0.04103"/>
			<mass value="0.00802"/>
			<inertia ixx="0.00000" ixy="0" ixz="0" iyy="0.00000" iyz="0" izz="0.00000"/>
		</inertial>
    </link>
    <link name="link_th_md_y">
        <inertial>
            <origin rpy="0.00000 -0.00000 0.00000" xyz="0.00000 0.00000 0.00000"/>
            <mass value="0.00000"/>
            <inertia ixx="0.00000" ixy="0" ixz="0" iyy="0.00000" iyz="0" izz="0.00000"/>
        </inertial>
    </link>
    <link name="link_th_md_z">
        <inertial>
            <origin rpy="0.00000 -0.00000 0.00000" xyz="0.00000 0.00000 0.00000"/>
            <mass value="0.00000"/>
            <inertia ixx="0.00000" ixy="0" ixz="0" iyy="0.00000" iyz="0" izz="0.00000"/>
        </inertial>
        <collision>
          <origin rpy=" -2.78364168 0.96144328  -2.47379542" xyz="-0.01110887 -0.00271648  0.00726206"/>
          <geometry>
            <capsule length="0.02709418497996566" radius="0.01"/>
          </geometry>
          <material name="">
            <contact name="finger"/>
          </material>
       </collision>
       <visual>
           <origin rpy="0 0 0.0" xyz="0 0 0"/>
           <geometry>
               <mesh filename="meshes/thmiddle_mean.stl" scale="1 1 1"/>
           </geometry>
           <material name="hand_color"/>
       </visual>
    </link>
    <!-- TH1 joint -->
    <joint name="THJ1" type="revolute">
        <parent link="link_th_pm_z"/>
        <child link="thmiddle"/>
        <origin xyz="-0.0196332 0.000891286 0.0236995"/>
        <axis xyz="1 0 0"/>
        <limit effort="1000" lower="-1" upper="1" />
        <dynamics   damping="1.0" friction="0.0001"/>
    </joint>
    <joint name="THJ1_y" type="revolute">
        <parent link="thmiddle"/>
        <child link="link_th_md_y"/>
        <origin xyz="0.0 0.0 0.0"/>
        <axis xyz="0 1 0"/>
        <limit effort="1000" lower="-0.5" upper="0.5" />
        <dynamics   damping="1.0" friction="0.0001"/>
    </joint>
    <joint name="THJ1_z" type="revolute">
        <parent link="link_th_md_y"/>
        <child link="link_th_md_z"/>
        <origin xyz="0.0 0.0 0.0"/>
        <axis xyz="0 0 1"/>
        <limit effort="1000" lower="-0.5" upper="0.5" />
        <dynamics   damping="1.0" friction="0.0001"/>
    </joint>

    <link name="thdistal">
    <inertial>
        <origin rpy="2.56484 -0.79342 0.95392" xyz="0.05414 0.01779 -0.05485"/>
        <mass value="0.00726"/>
        <inertia ixx="0.00000" ixy="0" ixz="0" iyy="0.00000" iyz="0" izz="0.00000"/>
    </inertial>
    </link>
    <link name="link_th_dd_y">
        <inertial>
            <origin rpy="0.00000 -0.00000 0.00000" xyz="0.00000 0.00000 0.00000"/>
            <mass value="0.00000"/>
            <inertia ixx="0.00000" ixy="0" ixz="0" iyy="0.00000" iyz="0" izz="0.00000"/>
        </inertial>
    </link>
    <link name="link_th_dd_z">
        <inertial>
            <origin rpy="0.00000 -0.00000 0.00000" xyz="0.00000 0.00000 0.00000"/>
            <mass value="0.00000"/>
            <inertia ixx="0.00000" ixy="0" ixz="0" iyy="0.00000" iyz="0" izz="0.00000"/>
        </inertial>
        <collision>
          <origin rpy="-2.83317999 0.97259243  -2.56963586" xyz="-0.01577465 -0.00326327  0.01024323"/>
          <geometry>
            <capsule length="0.02" radius="0.01"/>
          </geometry>
          <material name="">
              <contact name="finger"/>
          </material>
       </collision>
       <visual>
           <origin rpy="0 0 0.0" xyz="0 0 0"/>
           <geometry>
               <mesh filename="meshes/thdist_mean.stl" scale="1 1 1"/>
           </geometry>
           <material name="hand_color"/>
       </visual>
    </link>
    <!-- TH0 joint -->
    <joint name="THJ0" type="revolute">
        <parent link="link_th_md_z"/>
        <child link="thdistal"/>
        <origin xyz="-0.0222177 -0.00543297 0.0145241"/>
        <axis xyz="1 0 0"/>
        <limit effort="1000" lower="-0.000" upper="1.57" />
        <dynamics   damping="1.0" friction="0.0001"/>
    </joint>
    <joint name="THJ0_y" type="revolute">
        <parent link="thdistal"/>
        <child link="link_th_dd_y"/>
        <origin xyz="0.0 0.0 0.0"/>
        <axis xyz="0 1 0"/>
        <limit effort="1000" lower="-1.0000" upper="1.0000" />

        <dynamics   damping="1.0" friction="0.0001"/>
    </joint>
    <joint name="THJ0_z" type="revolute">
        <parent link="link_th_dd_y"/>
        <child link="link_th_dd_z"/>
        <origin xyz="0.0 0.0 0.0"/>
        <axis xyz="0 0 1"/>
        <limit effort="1000" lower="-1.0000" upper="1.0000" />

        <dynamics   damping="1.0" friction="0.0001"/>
    </joint>
    <link name="link_thtip">
        <inertial>
            <origin rpy="0.00000 -0.00000 0.00000" xyz="0.00000 0.00000 0.00000"/>
            <mass value="0.00000"/>
            <inertia ixx="0.00000" ixy="0" ixz="0" iyy="0.00000" iyz="0" izz="0.00000"/>
        </inertial>
    </link>
    <!-- Fix Finger joint -->
    <joint name="THTip" type="fixed">
        <parent link="link_th_dd_z"/>
        <child link="link_thtip"/>
        <origin xyz="-0.0315493  -0.00652654  0.02048647"/>
    </joint>


</robot>
